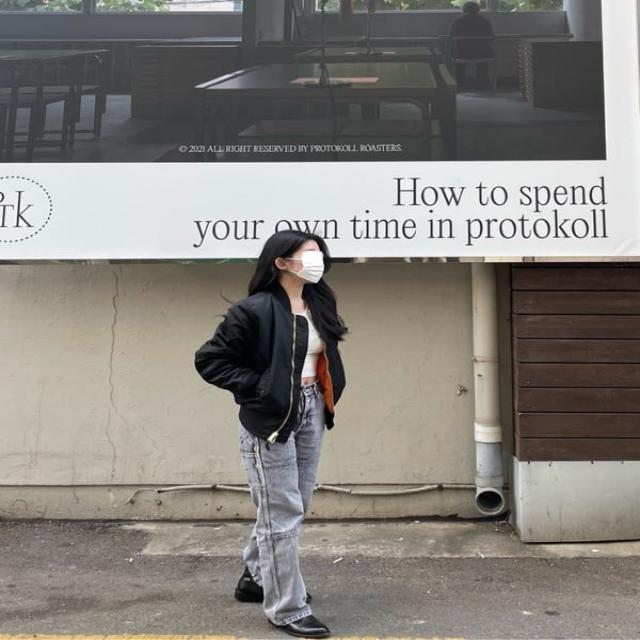denimpants: (243, 379, 328, 624)
jacket: (196, 280, 350, 444)
